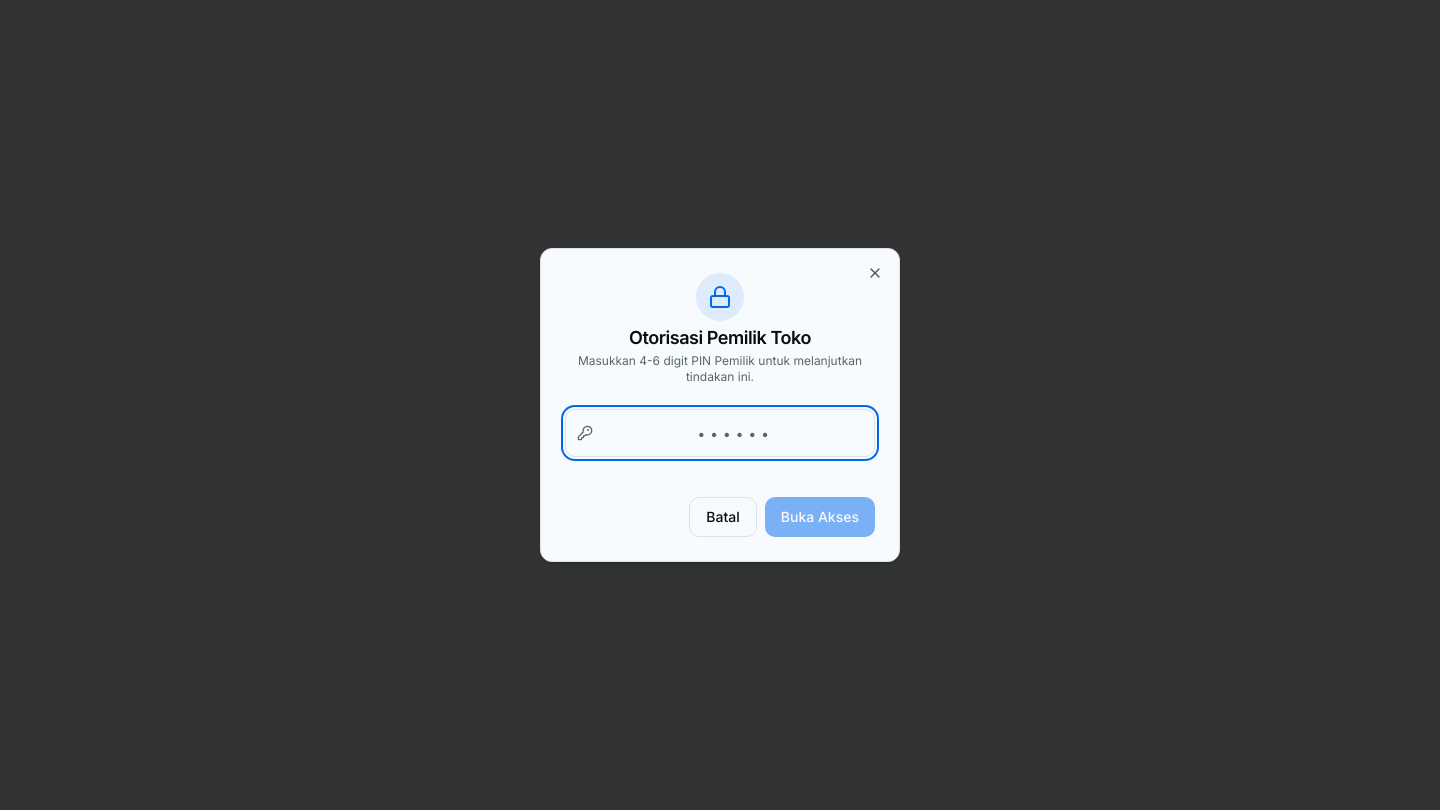
PinModal › shows error when wrong PIN is entered
In the password field with placeholder "• • • • • •": (720, 433) [565,409,875,457], type "999999"
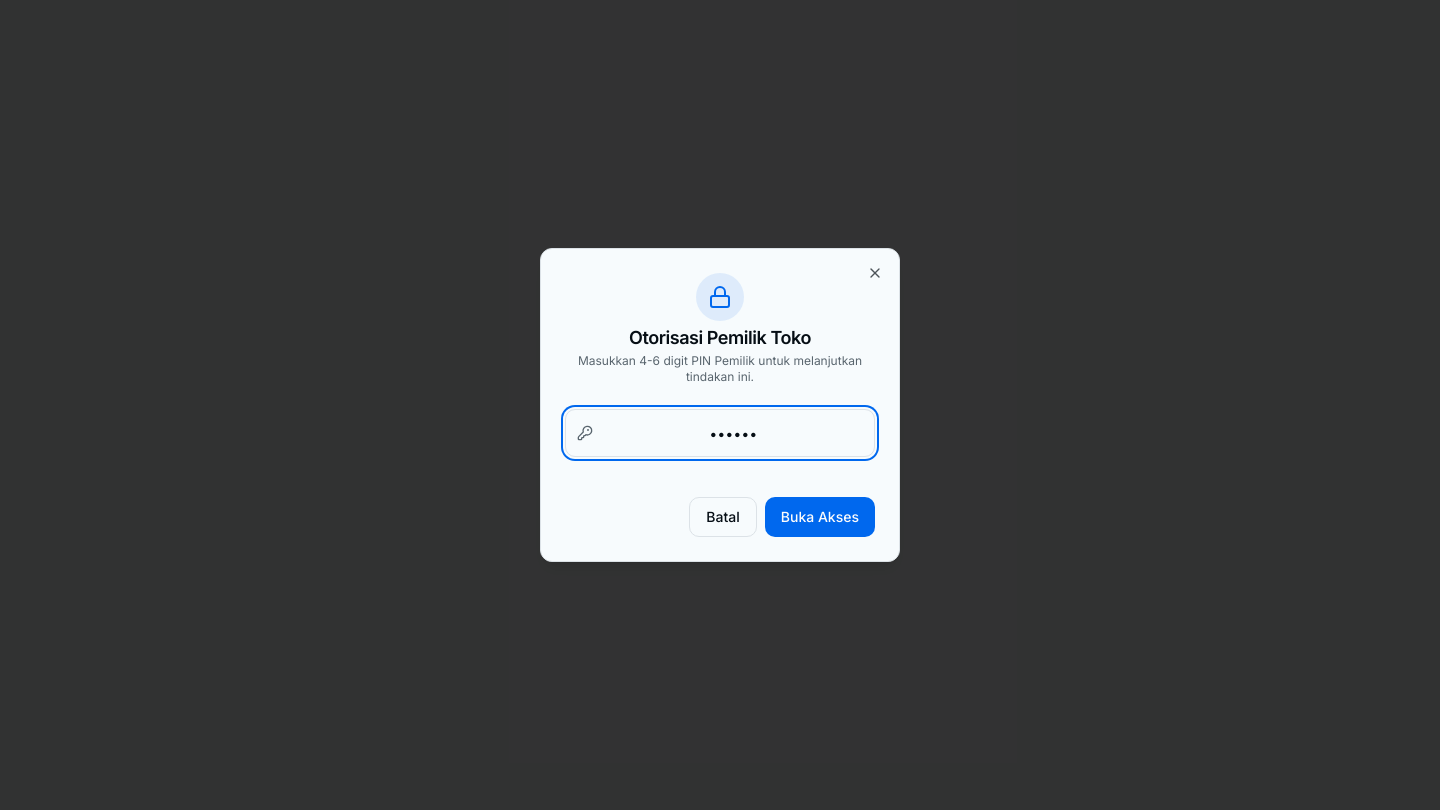
Click the button "Buka Akses": click(820, 517) [765,497,875,537]
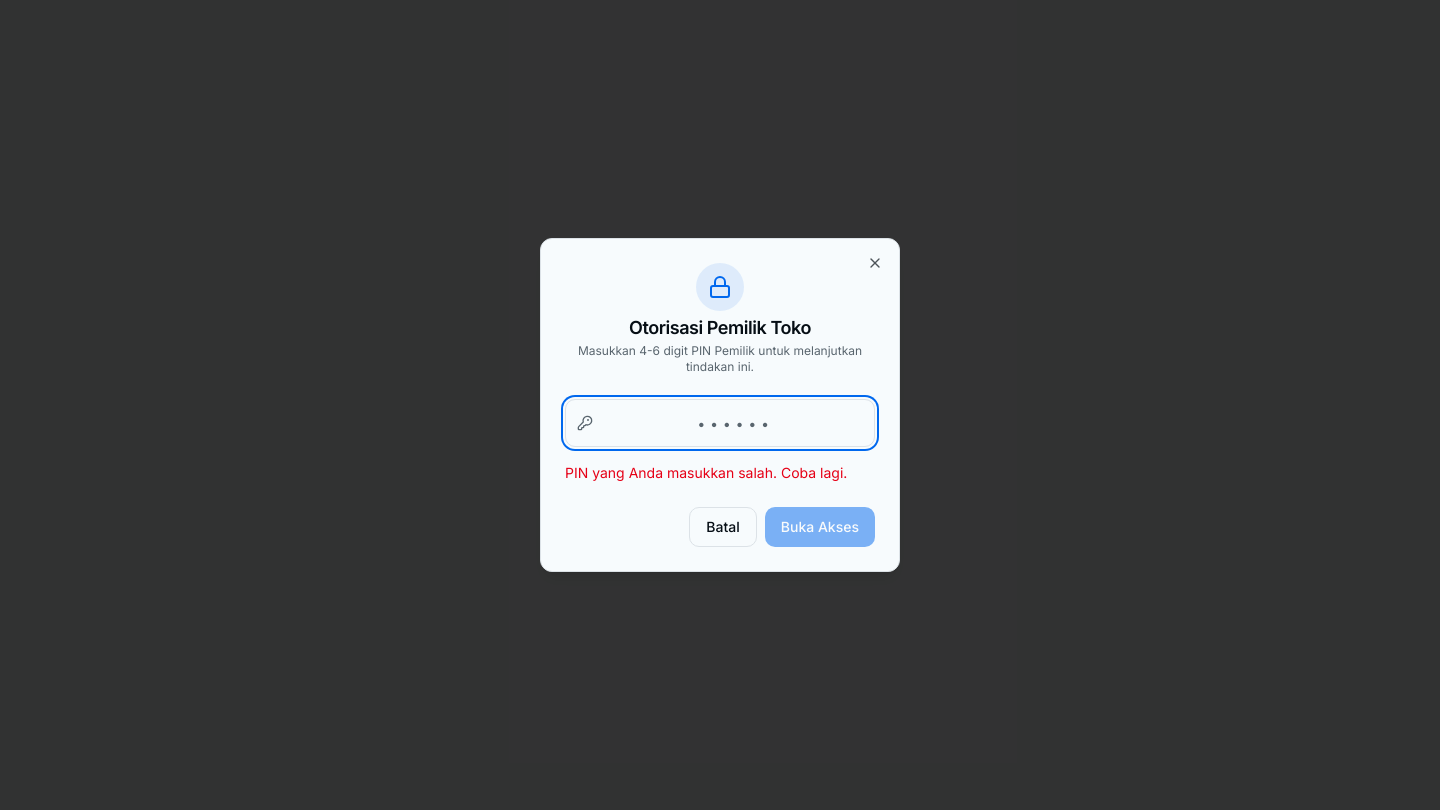
Check: the text "PIN yang Anda masukkan salah. Coba lagi." is shown, box [565,463,875,483]
